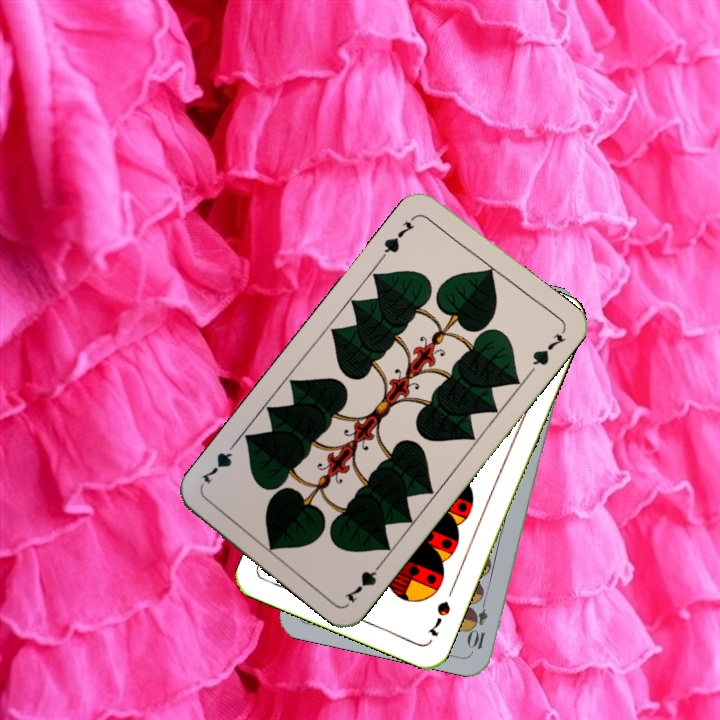E10: (466, 593, 491, 652)
G7: (340, 556, 387, 606), (377, 217, 417, 261)
S7: (425, 596, 453, 639)
